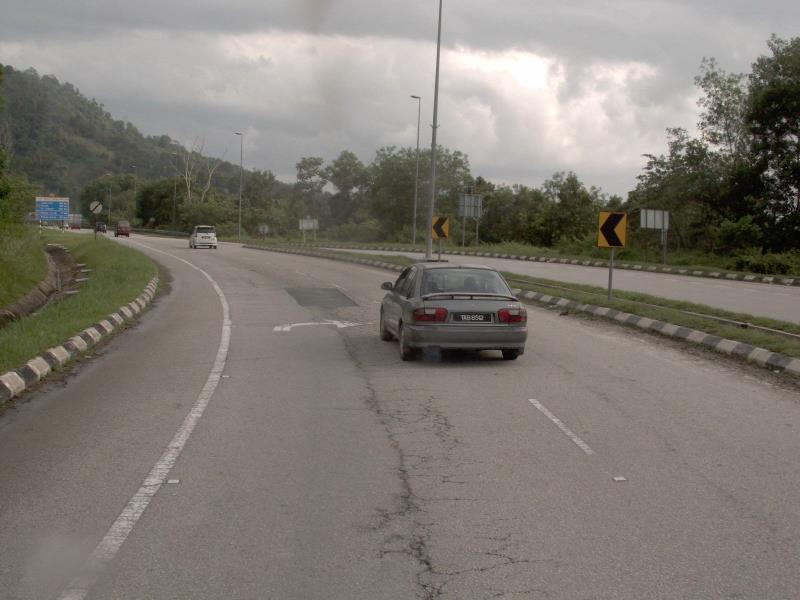traffic_sign: (591, 204, 633, 257)
